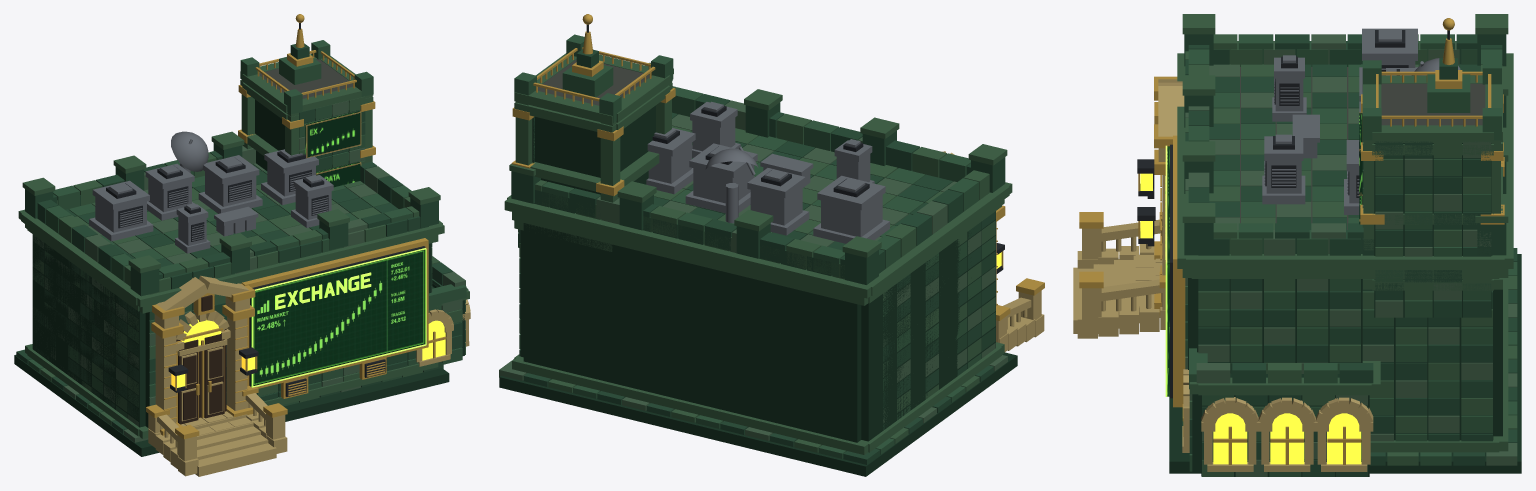
The model's file is exchange.glb.
3 renders of one model, left to right at view 1: azimuth 30°, elevation 25°; view 2: azimuth 150°, elevation 25°; view 3: azimuth 270°, elevation 25°, orthographic. The views are drawn at different scales.
Parts seen in each view (by area): view 1: Brushed brass, Market display • PBR + emissive, Tower display (×2), Neon • lime emission, Amber glass; view 2: Brushed brass; view 3: Brushed brass, Amber glass, Neon • lime emission, Market display • PBR + emissive.
Boxes of the visible parts, <box> form: Brushed brass: <box>14,14,470,476</box>; Market display • PBR + emissive: <box>251,247,425,386</box>; Tower display (×2): <box>305,111,361,187</box>; Neon • lime emission: <box>251,248,426,387</box>; Amber glass: <box>171,319,445,387</box>; Brushed brass: <box>499,14,1044,476</box>; Brushed brass: <box>1073,14,1521,476</box>; Amber glass: <box>1140,173,1361,464</box>; Neon • lime emission: <box>1165,145,1167,396</box>; Market display • PBR + emissive: <box>1167,146,1169,396</box>.
Bounding box in the file's own units: 9.76 × 8.35 × 8.02.
Materials: 6 (6 with a texture image).
